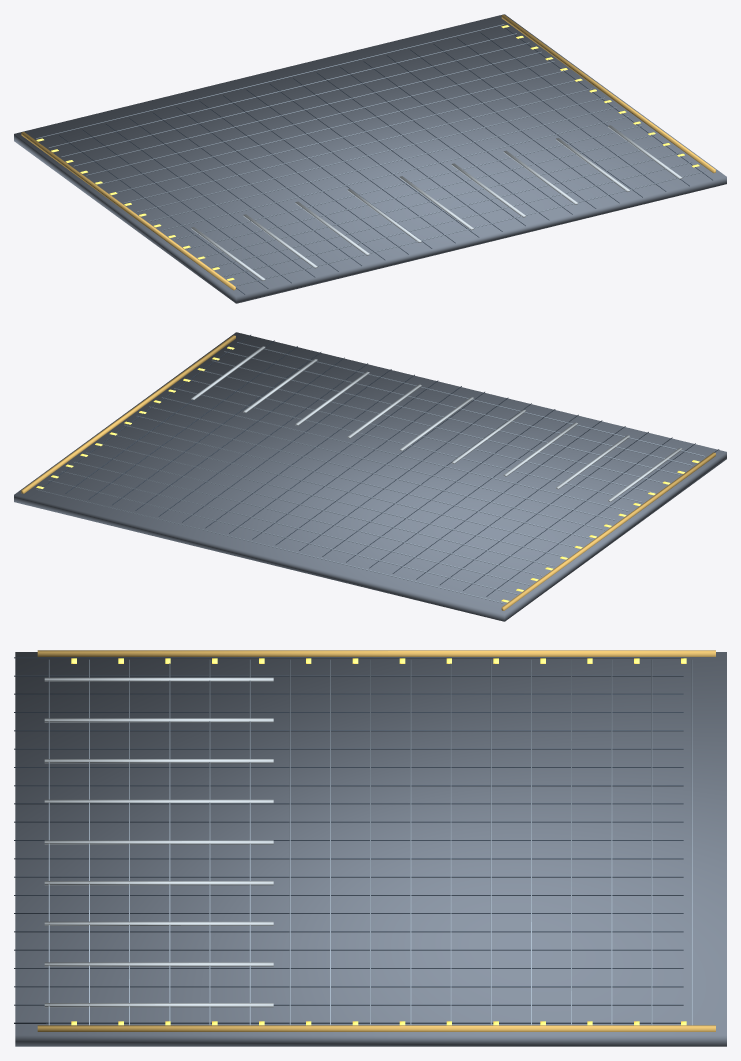
Rendered from 00_L89_HeliosRadiationDefenseArenaBase.fbx.
3 views of the same model, one above another, from view 1: azimuth 30°, elevation 25°; view 2: azimuth 150°, elevation 25°; view 3: azimuth 270°, elevation 25° (orthographic). The views are drawn at different scales.
Parts seen in each view (by area): view 1: L87_HeliosRadiationDefenseAre_Part_0000, L87_HeliosRadiationDefenseAre_Part_0003, L87_HeliosRadiationDefenseAre_Part_0001, L87_HeliosRadiationDefenseAre_Part_0007, L87_HeliosRadiationDefenseAre_Part_0004, L87_HeliosRadiationDefenseAre_Part_0002; view 2: L87_HeliosRadiationDefenseAre_Part_0000, L87_HeliosRadiationDefenseAre_Part_0003, L87_HeliosRadiationDefenseAre_Part_0001, L87_HeliosRadiationDefenseAre_Part_0007, L87_HeliosRadiationDefenseAre_Part_0004; view 3: L87_HeliosRadiationDefenseAre_Part_0000, L87_HeliosRadiationDefenseAre_Part_0001, L87_HeliosRadiationDefenseAre_Part_0007, L87_HeliosRadiationDefenseAre_Part_0003, L87_HeliosRadiationDefenseAre_Part_0004, L87_HeliosRadiationDefenseAre_Part_0002, L87_HeliosRadiationDefenseAre_Part_0005.
Part boxes in pixels (x1,y1,x2,y2): L87_HeliosRadiationDefenseAre_Part_0000: [14, 14, 726, 303]; L87_HeliosRadiationDefenseAre_Part_0003: [36, 24, 705, 285]; L87_HeliosRadiationDefenseAre_Part_0001: [59, 38, 666, 294]; L87_HeliosRadiationDefenseAre_Part_0007: [191, 125, 682, 280]; L87_HeliosRadiationDefenseAre_Part_0004: [21, 15, 715, 290]; L87_HeliosRadiationDefenseAre_Part_0002: [480, 28, 712, 186]; L87_HeliosRadiationDefenseAre_Part_0000: [14, 332, 726, 621]; L87_HeliosRadiationDefenseAre_Part_0003: [36, 342, 705, 603]; L87_HeliosRadiationDefenseAre_Part_0001: [88, 346, 719, 596]; L87_HeliosRadiationDefenseAre_Part_0007: [191, 346, 682, 501]; L87_HeliosRadiationDefenseAre_Part_0004: [21, 335, 715, 610]; L87_HeliosRadiationDefenseAre_Part_0000: [15, 652, 726, 1046]; L87_HeliosRadiationDefenseAre_Part_0001: [14, 657, 683, 987]; L87_HeliosRadiationDefenseAre_Part_0007: [44, 677, 273, 1007]; L87_HeliosRadiationDefenseAre_Part_0003: [48, 659, 692, 1025]; L87_HeliosRadiationDefenseAre_Part_0004: [37, 650, 715, 1031]; L87_HeliosRadiationDefenseAre_Part_0002: [14, 1004, 683, 1023]; L87_HeliosRadiationDefenseAre_Part_0005: [71, 658, 686, 1025].
Size of the model in its own units: 32.5 by 0.885 by 25.55.
